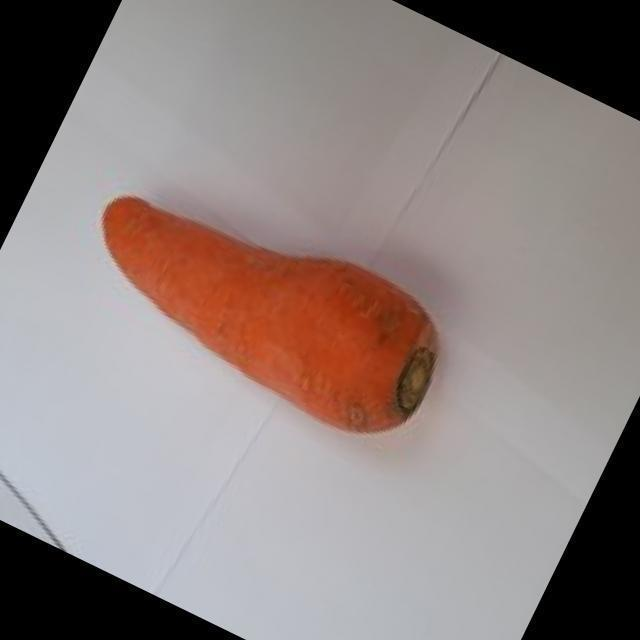Carrot: (102, 198, 435, 432)
